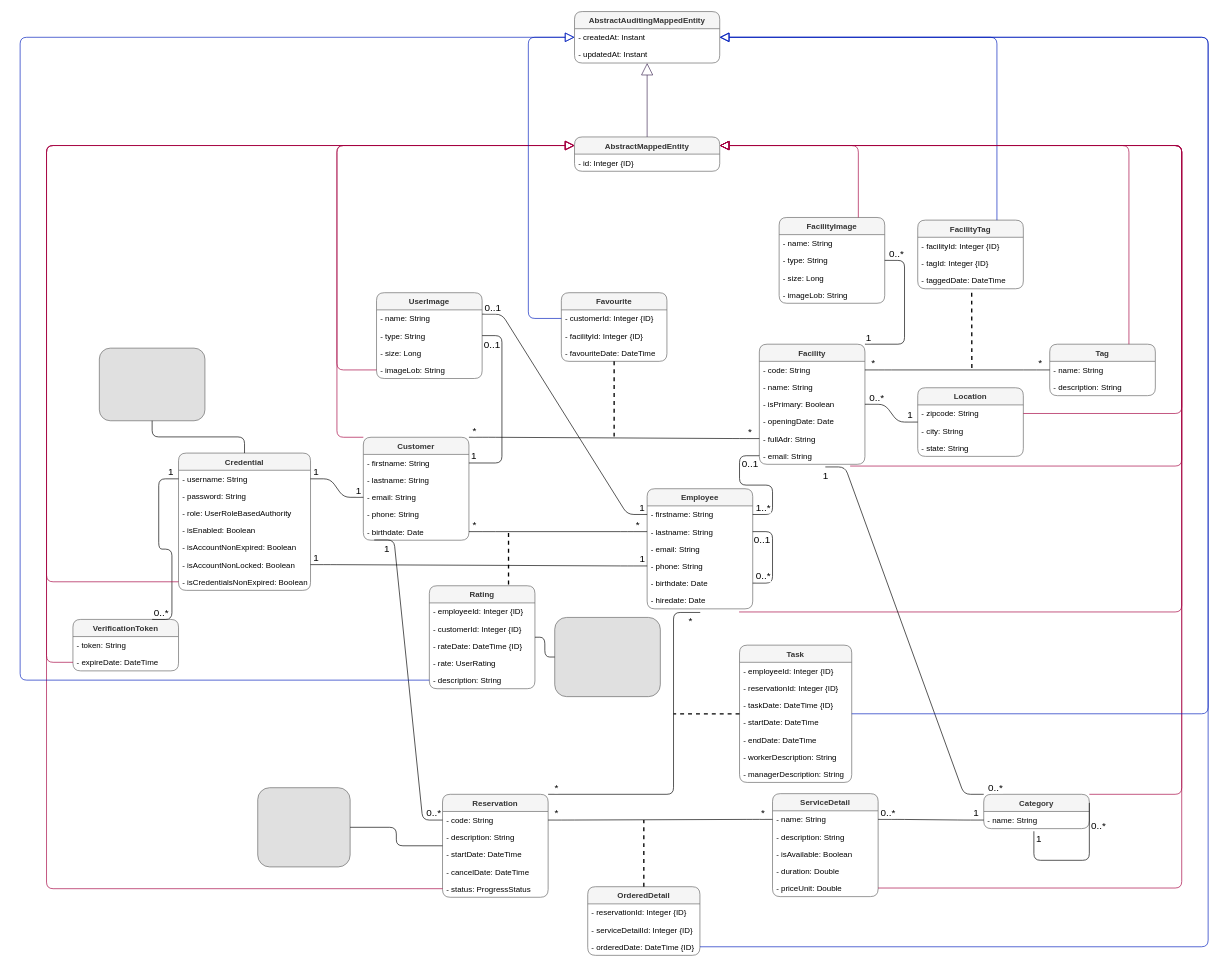
This 1229x969 diagram has some shape labels left out. Here are the shapes that lost their labels. From the top down, the centre of each, then its label:
At [152,384]: "<<enum>> UserRoleBasedAuthority + CUSTOMER + WORKER + MANAGER + OWNER".
At [607,657]: "<<enum>> UserRating + VERY_BAD + BAD + NEUTRAL + GOOD + PERFECT".
At [303,827]: "<<enum>> ProgressStatus + NOT_STARTED + IN_PROGRESS + COMPLETED + CANCELLED".
